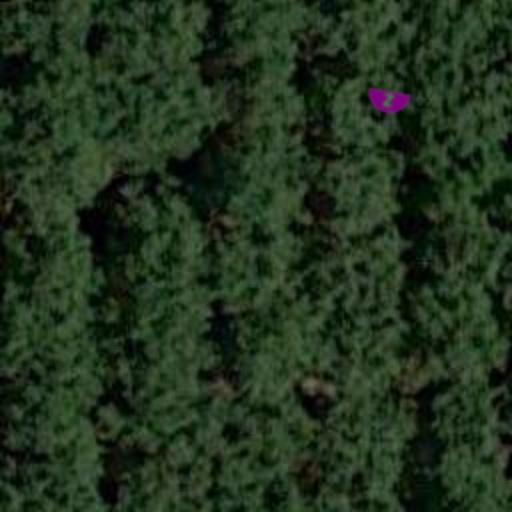semicircle: (362, 76, 414, 128)
